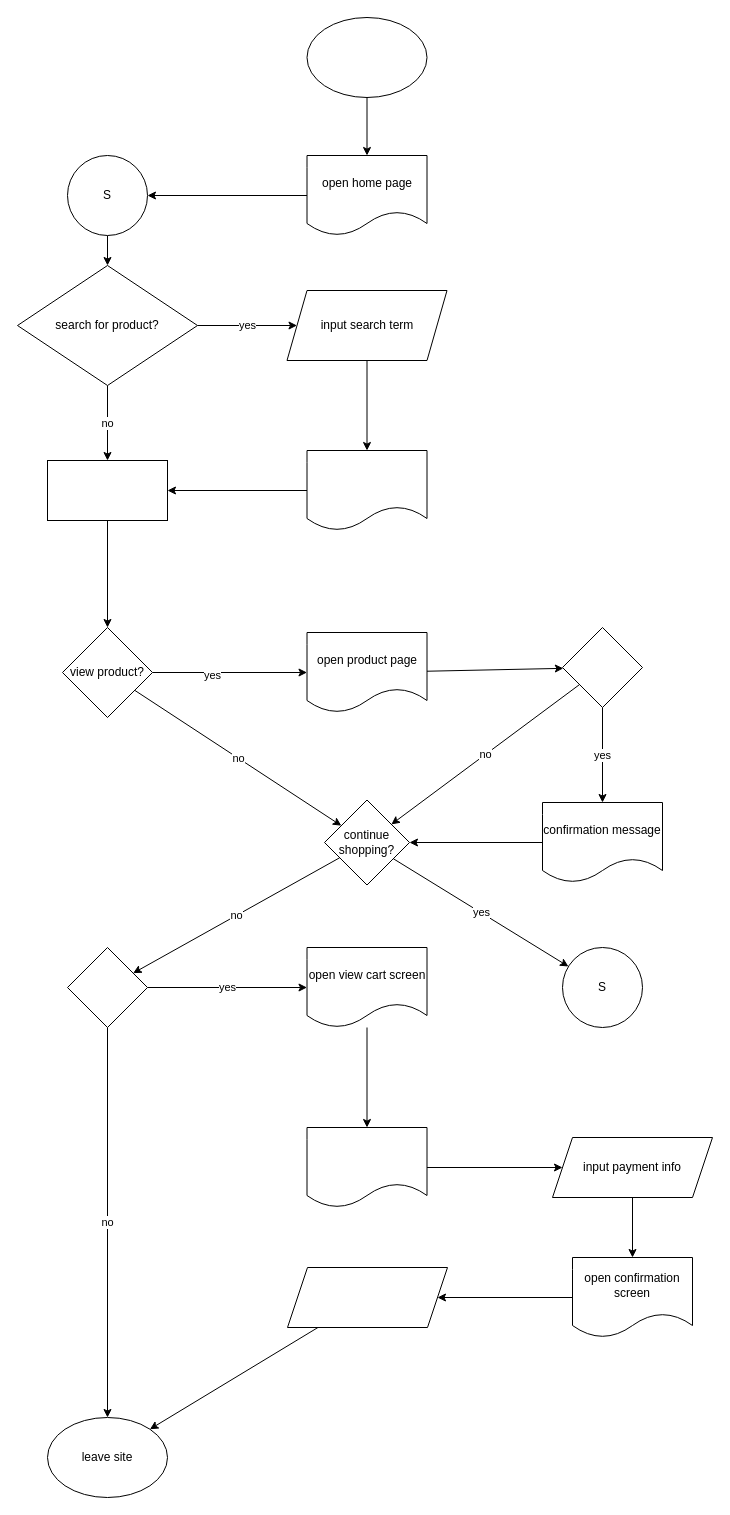
The diagram is 730 pixels wide and 1515 high, and some of its shapes have lost their labels. Here are the shapes that lost their labels. From the top down, the centre of each, then its label:
At (x=366, y=57): "enter site".
At (x=107, y=490): "user looks over products".
At (x=366, y=490): "open searched products page".
At (x=602, y=667): "add to cart?".
At (x=107, y=987): "checkout?".
At (x=366, y=1167): "view payment".
At (x=367, y=1297): "send email".
